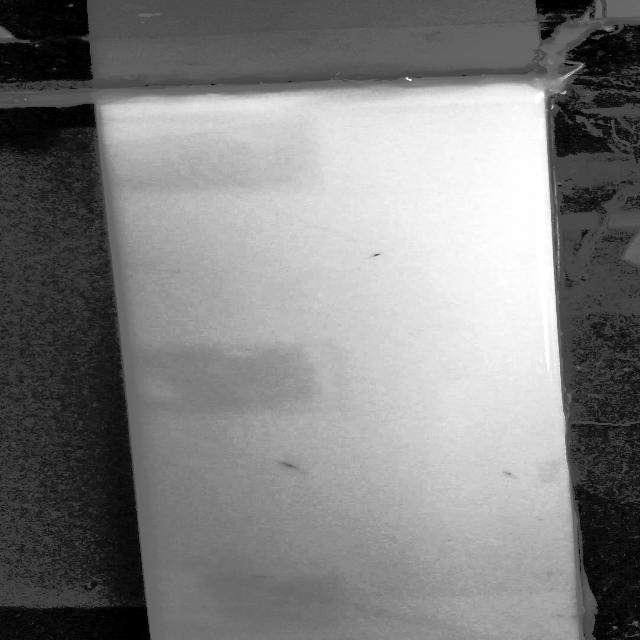shrimp: (363, 249, 396, 262), (496, 469, 522, 484), (276, 459, 302, 473), (251, 571, 283, 580)
